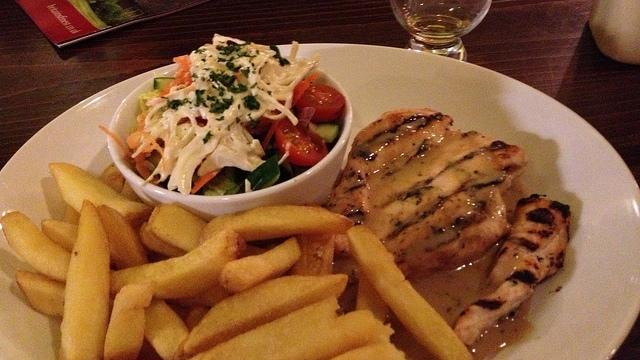carrot: (126, 131, 166, 170), (291, 74, 321, 108), (98, 125, 128, 158), (191, 168, 223, 194), (261, 120, 278, 152), (160, 78, 184, 96), (173, 54, 191, 72)
tomato: (276, 120, 328, 166), (296, 83, 344, 123)
